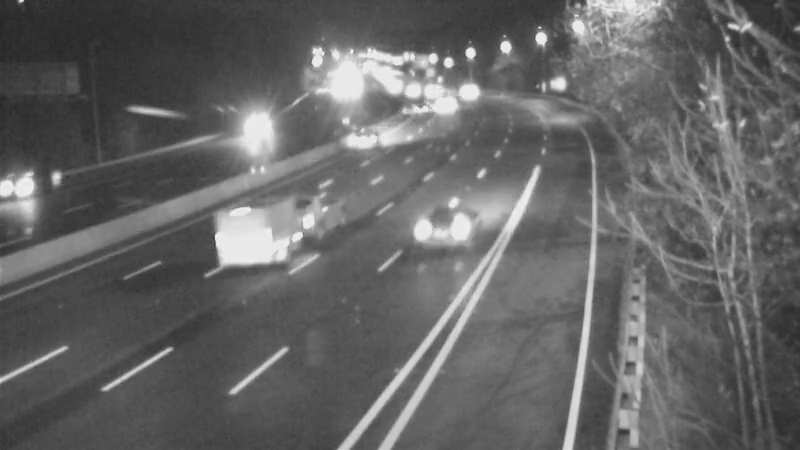vehicle: (232, 194, 312, 274), (403, 192, 483, 272), (1, 135, 77, 215), (440, 66, 490, 116), (391, 71, 441, 121), (411, 65, 461, 115), (418, 78, 468, 128), (390, 81, 440, 131), (340, 117, 390, 167), (225, 103, 275, 153)
